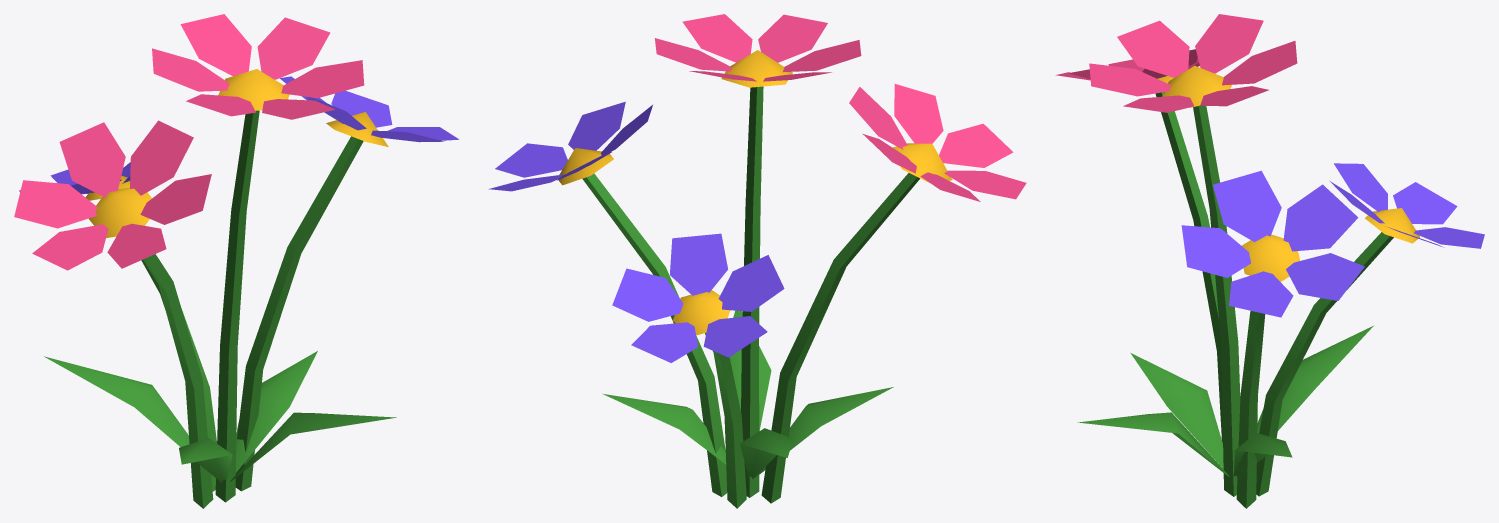
The model's file is flower_clump.glb.
3 renders of one model, left to right at view 1: azimuth 30°, elevation 25°; view 2: azimuth 150°, elevation 25°; view 3: azimuth 270°, elevation 25°, orthographic. The views are drawn at different scales.
Visible parts, largest first — view 1: body; view 2: body; view 3: body.
Boxes of the visible parts, box(x1,y1,x2,y2) form: body: box(14, 14, 459, 508); body: box(488, 14, 1026, 508); body: box(1055, 14, 1484, 508).
Bounding box in the file's own units: 0.4264 × 0.3922 × 0.3422.
